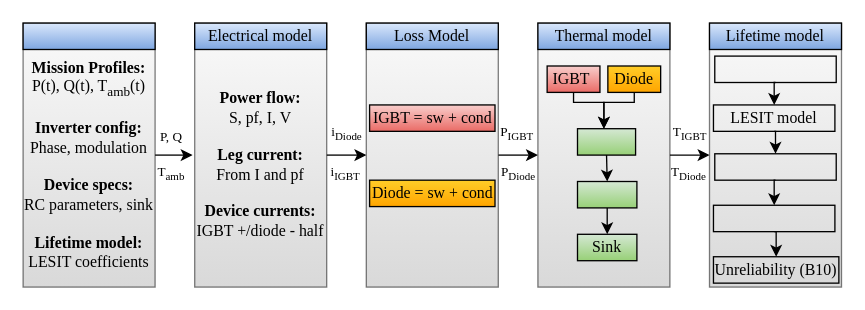
Image size: 865x310. Some labels were removed from this diagram. The shapes that lost their labels are listed below. From the top down, each one's centre as x and y in pixels, then its label:
the point at 88,36: Inputs
the point at 774,68: Rainflow counting
the point at 606,141: Case
the point at 774,166: Miner's rule
the point at 606,194: Paste
the point at 773,218: Monte Carlo
